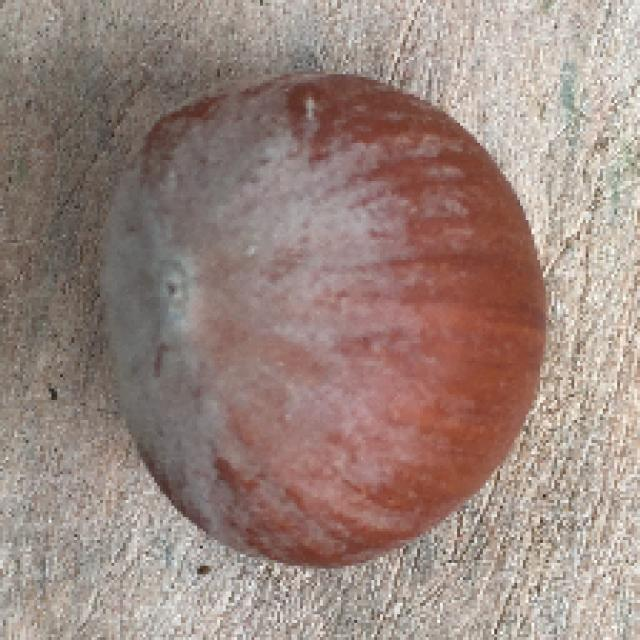QualityHazelnut: (98, 68, 552, 567)
